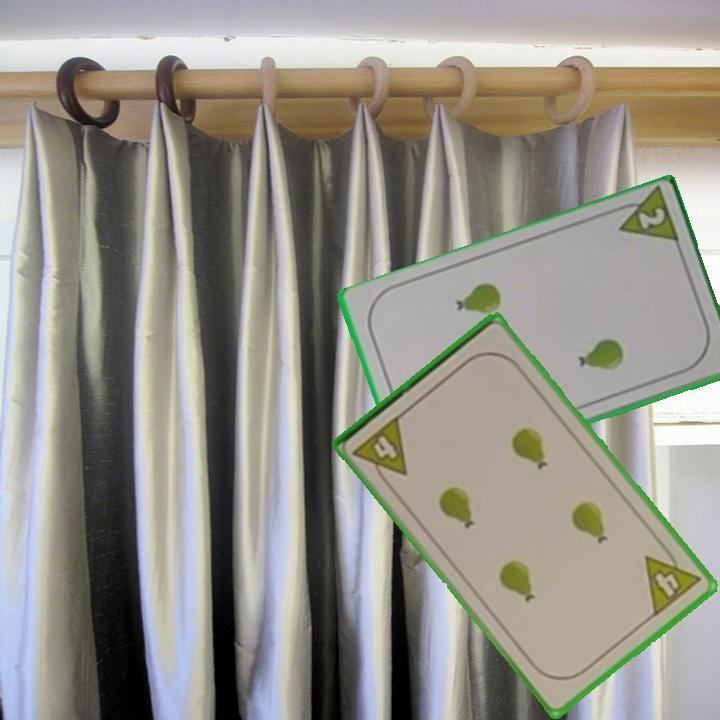2p: (607, 186, 683, 249)
4p: (641, 539, 704, 620), (349, 412, 411, 490)
